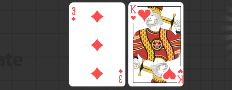3D: (70, 5, 76, 22)
KH: (129, 4, 137, 21)
